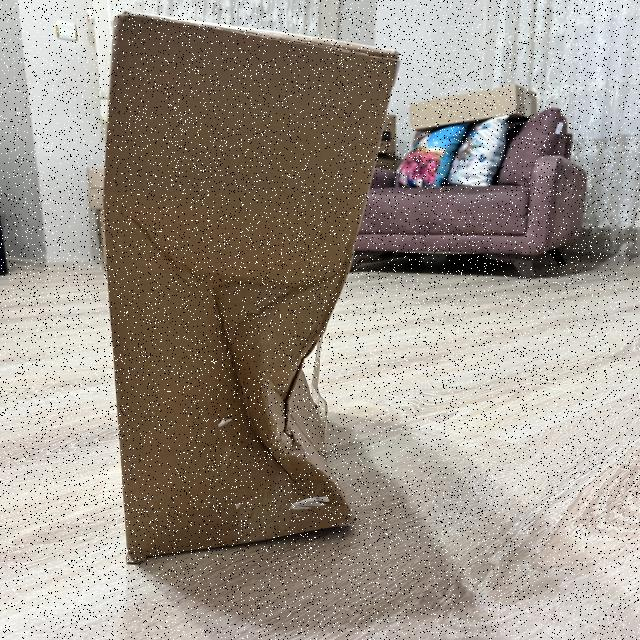damaged: (100, 8, 393, 565), (199, 251, 376, 556)
